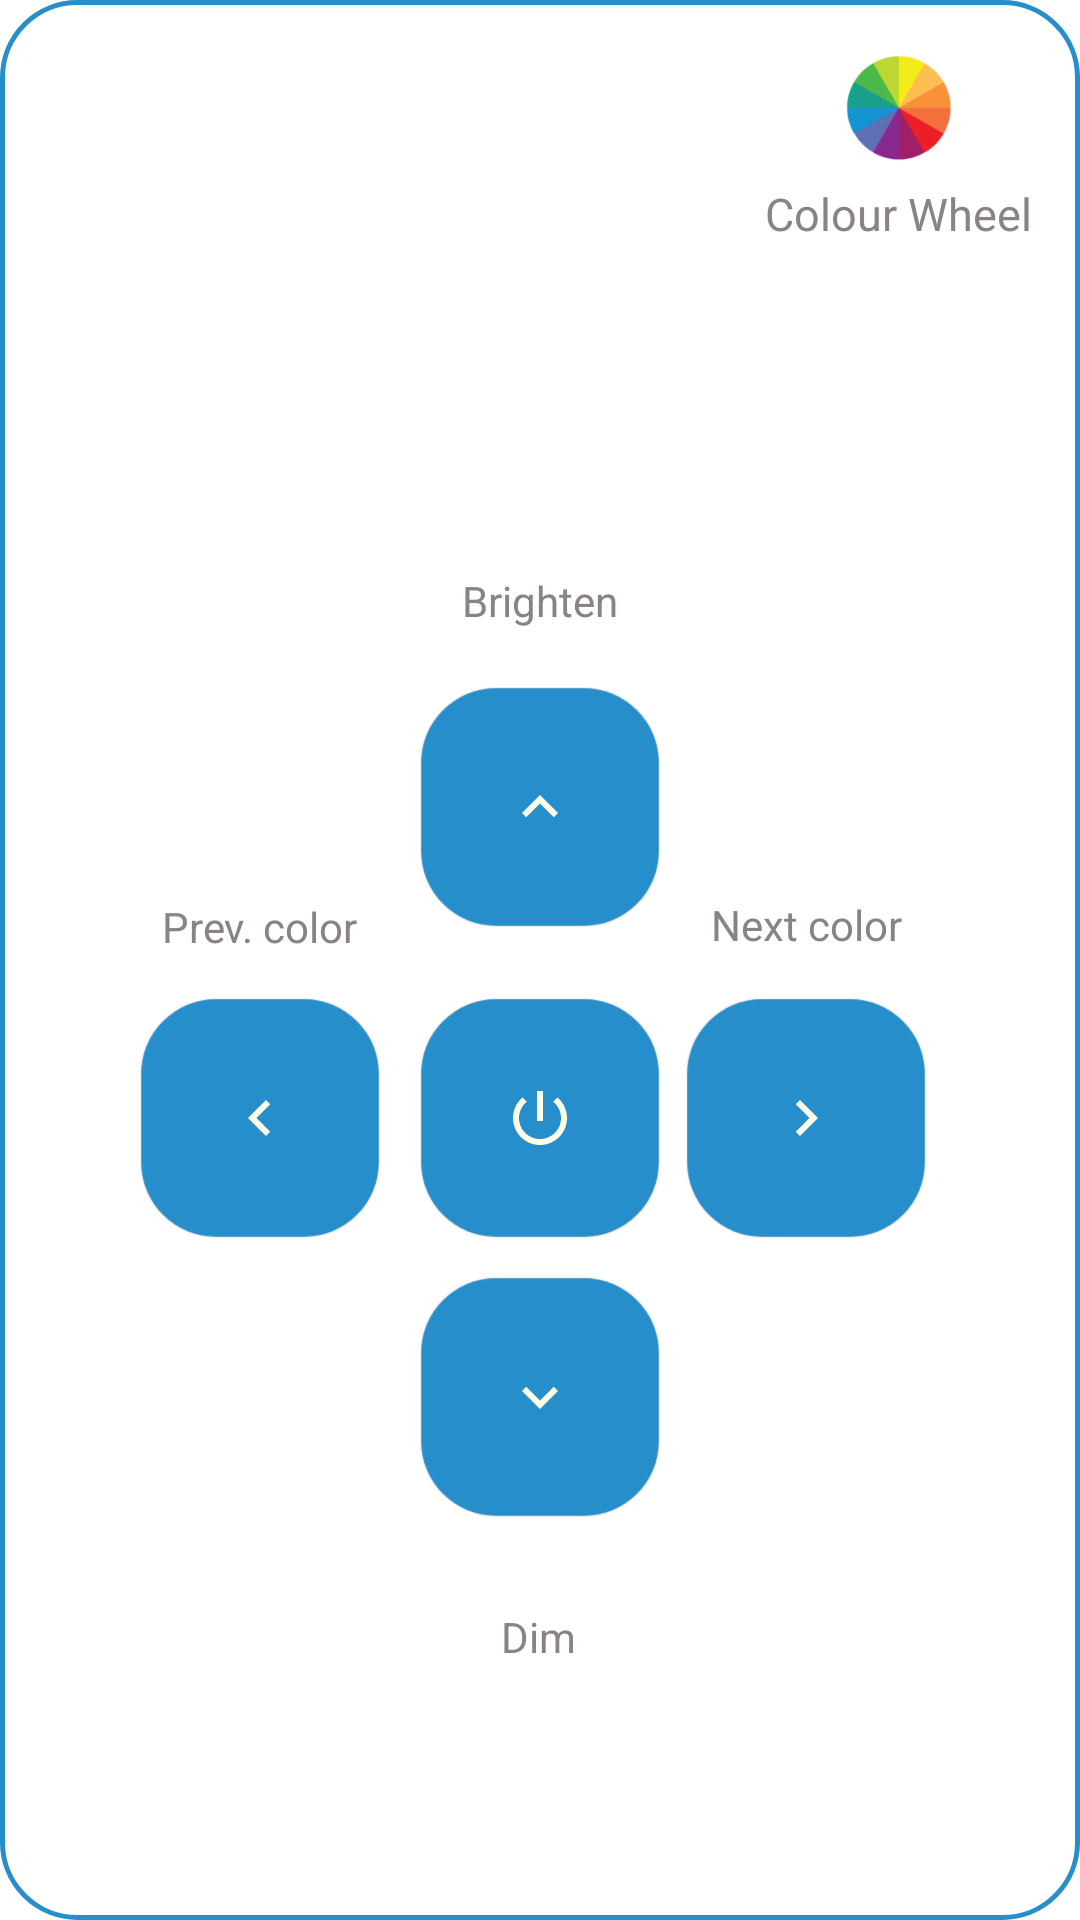

Screen size 1080x1920. Icon name, then its box in pixels as (x1, y1, x2, y2):
back: (141, 999, 379, 1237)
power on: (421, 999, 659, 1237)
